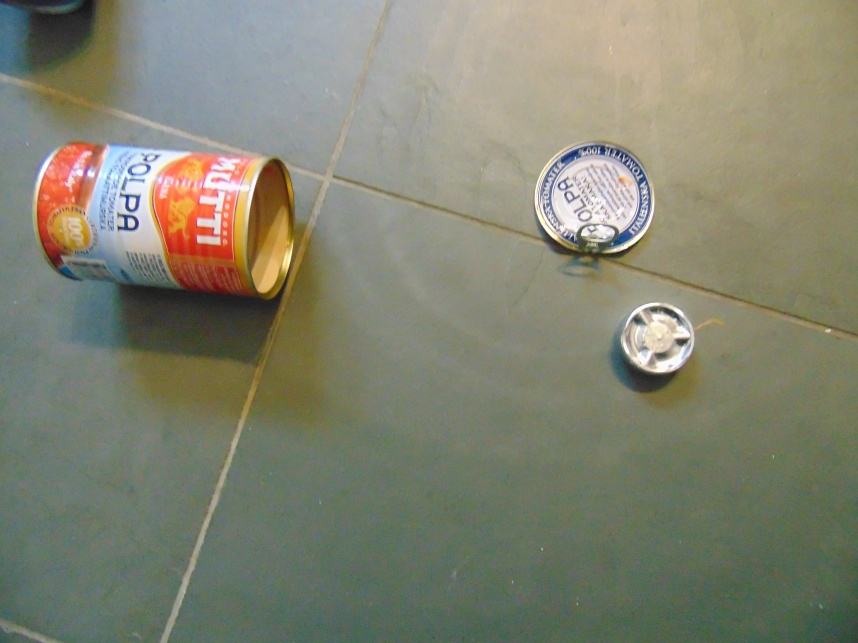metal: (535, 139, 654, 255), (619, 301, 696, 377)
metal_can: (34, 140, 299, 303)
